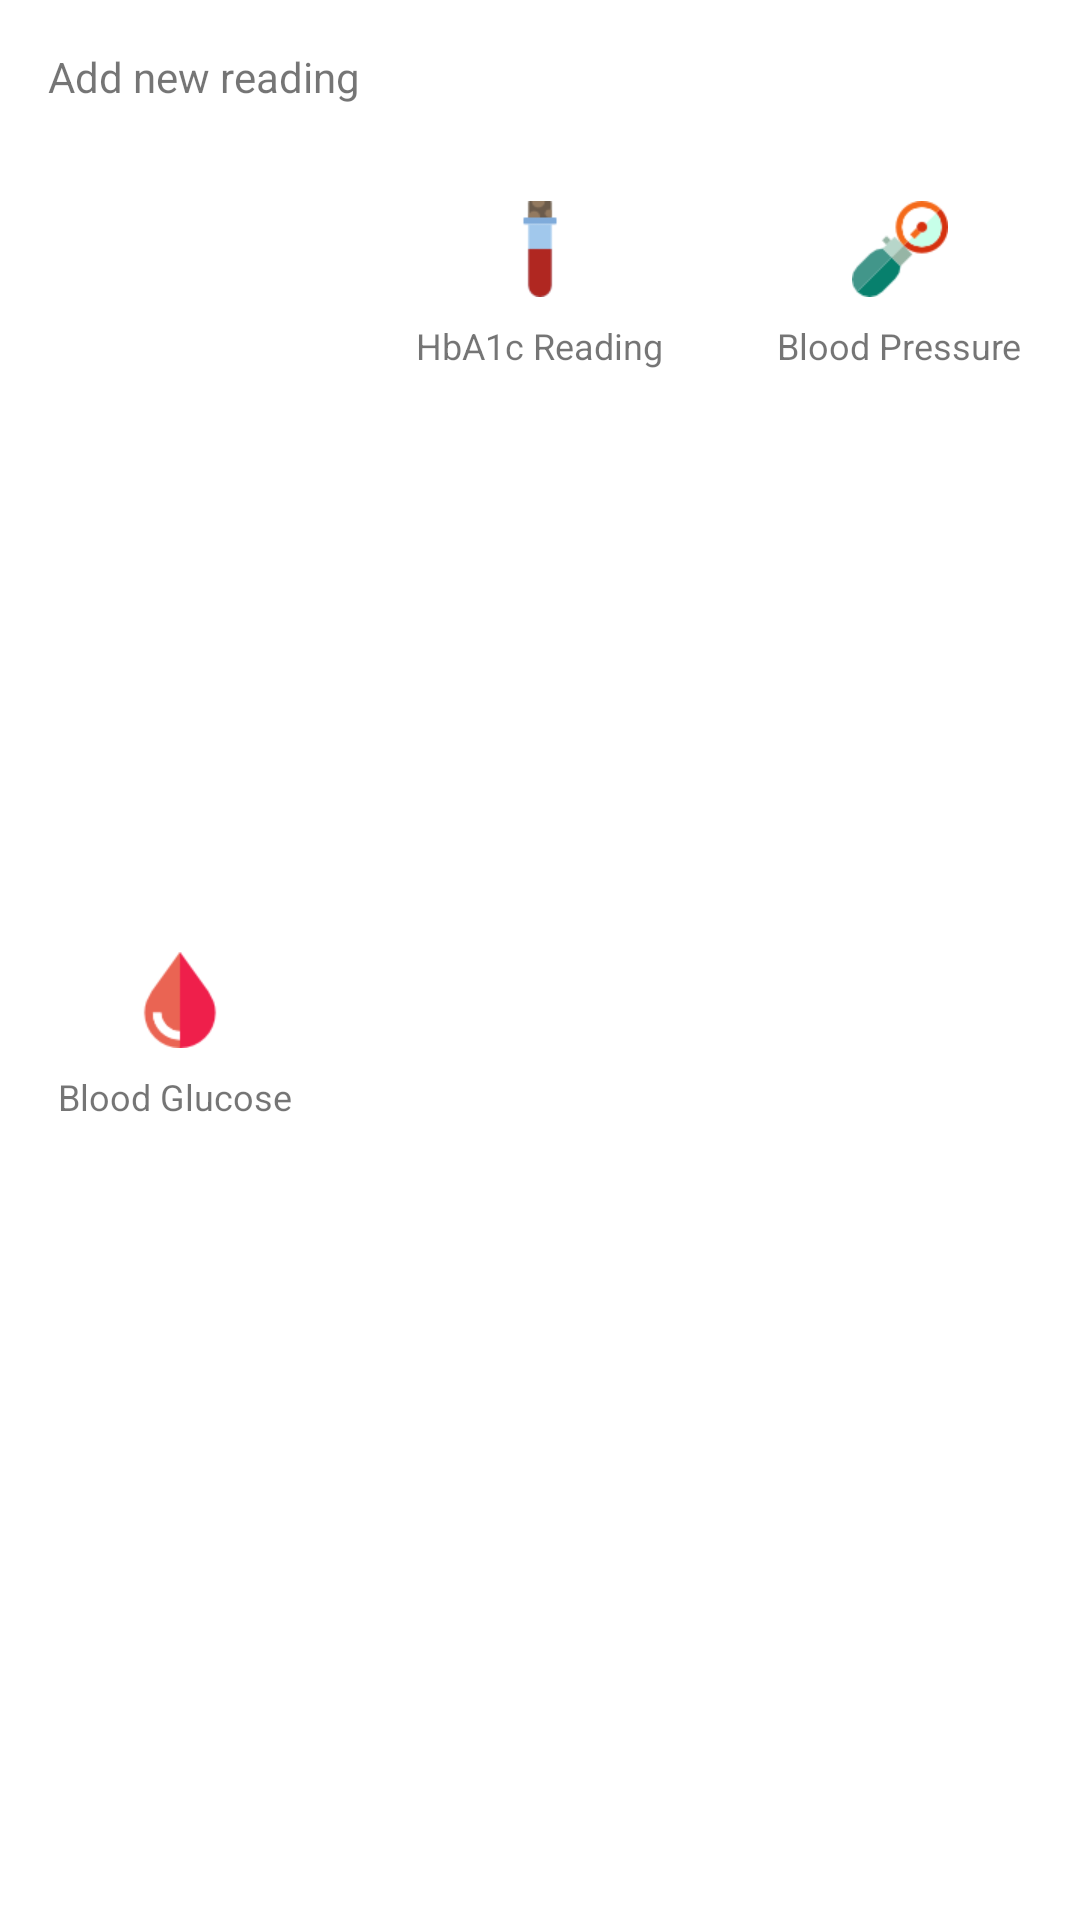

Point at icon controls on the screen. Image size 1080px×1920px, points as (x,y).
blooddrop: (180,1000)
bloodsample: (540,249)
sphygmomanometer: (900,249)
